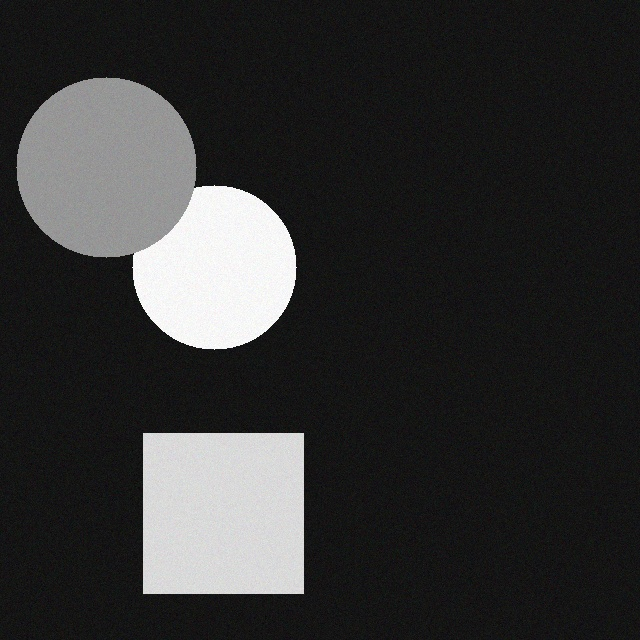circle: (19, 88, 199, 268), (135, 196, 299, 360)
square: (146, 444, 306, 604)
